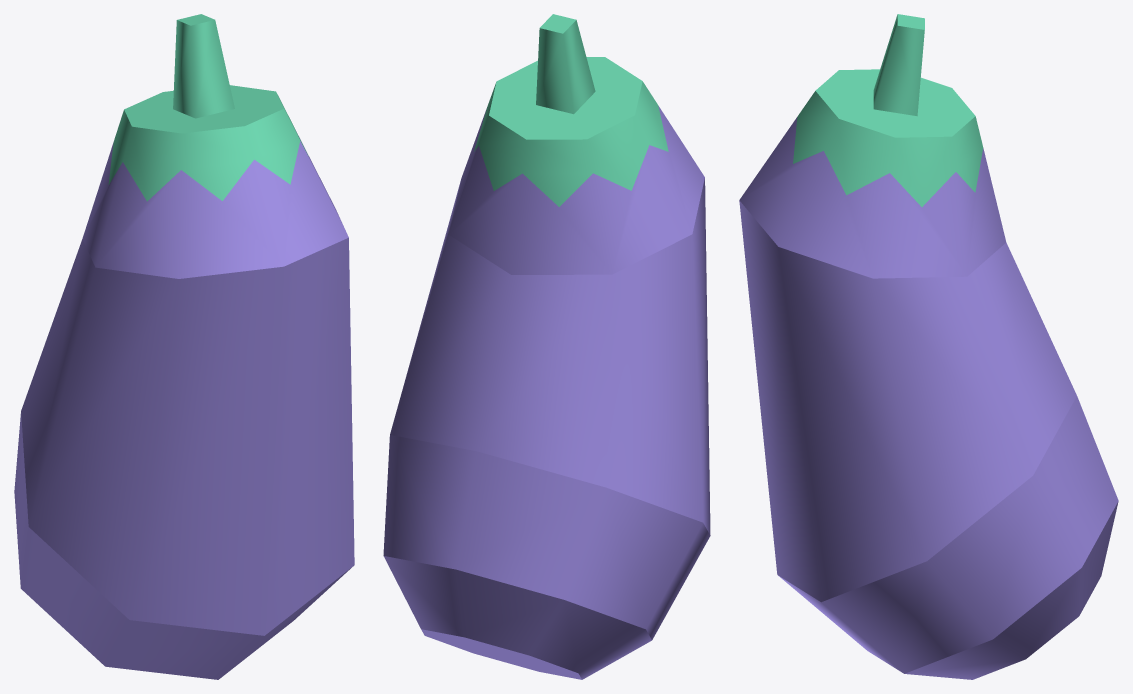
File: eggplant.GLB
3 renders of one model, left to right at view 1: azimuth 30°, elevation 25°; view 2: azimuth 150°, elevation 25°; view 3: azimuth 270°, elevation 25°, orthographic. The views are drawn at different scales.
Visible parts, largest first — view 1: eggplant; view 2: eggplant; view 3: eggplant.
Part boxes in pixels (x1=…): eggplant: x1=14, y1=14, x2=354, y2=679; eggplant: x1=383, y1=14, x2=710, y2=679; eggplant: x1=739, y1=14, x2=1118, y2=679.
Size of the model in its own units: 0.204 by 0.4052 by 0.2156.
